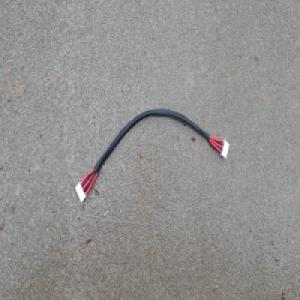Wire: (73, 107, 230, 204)
